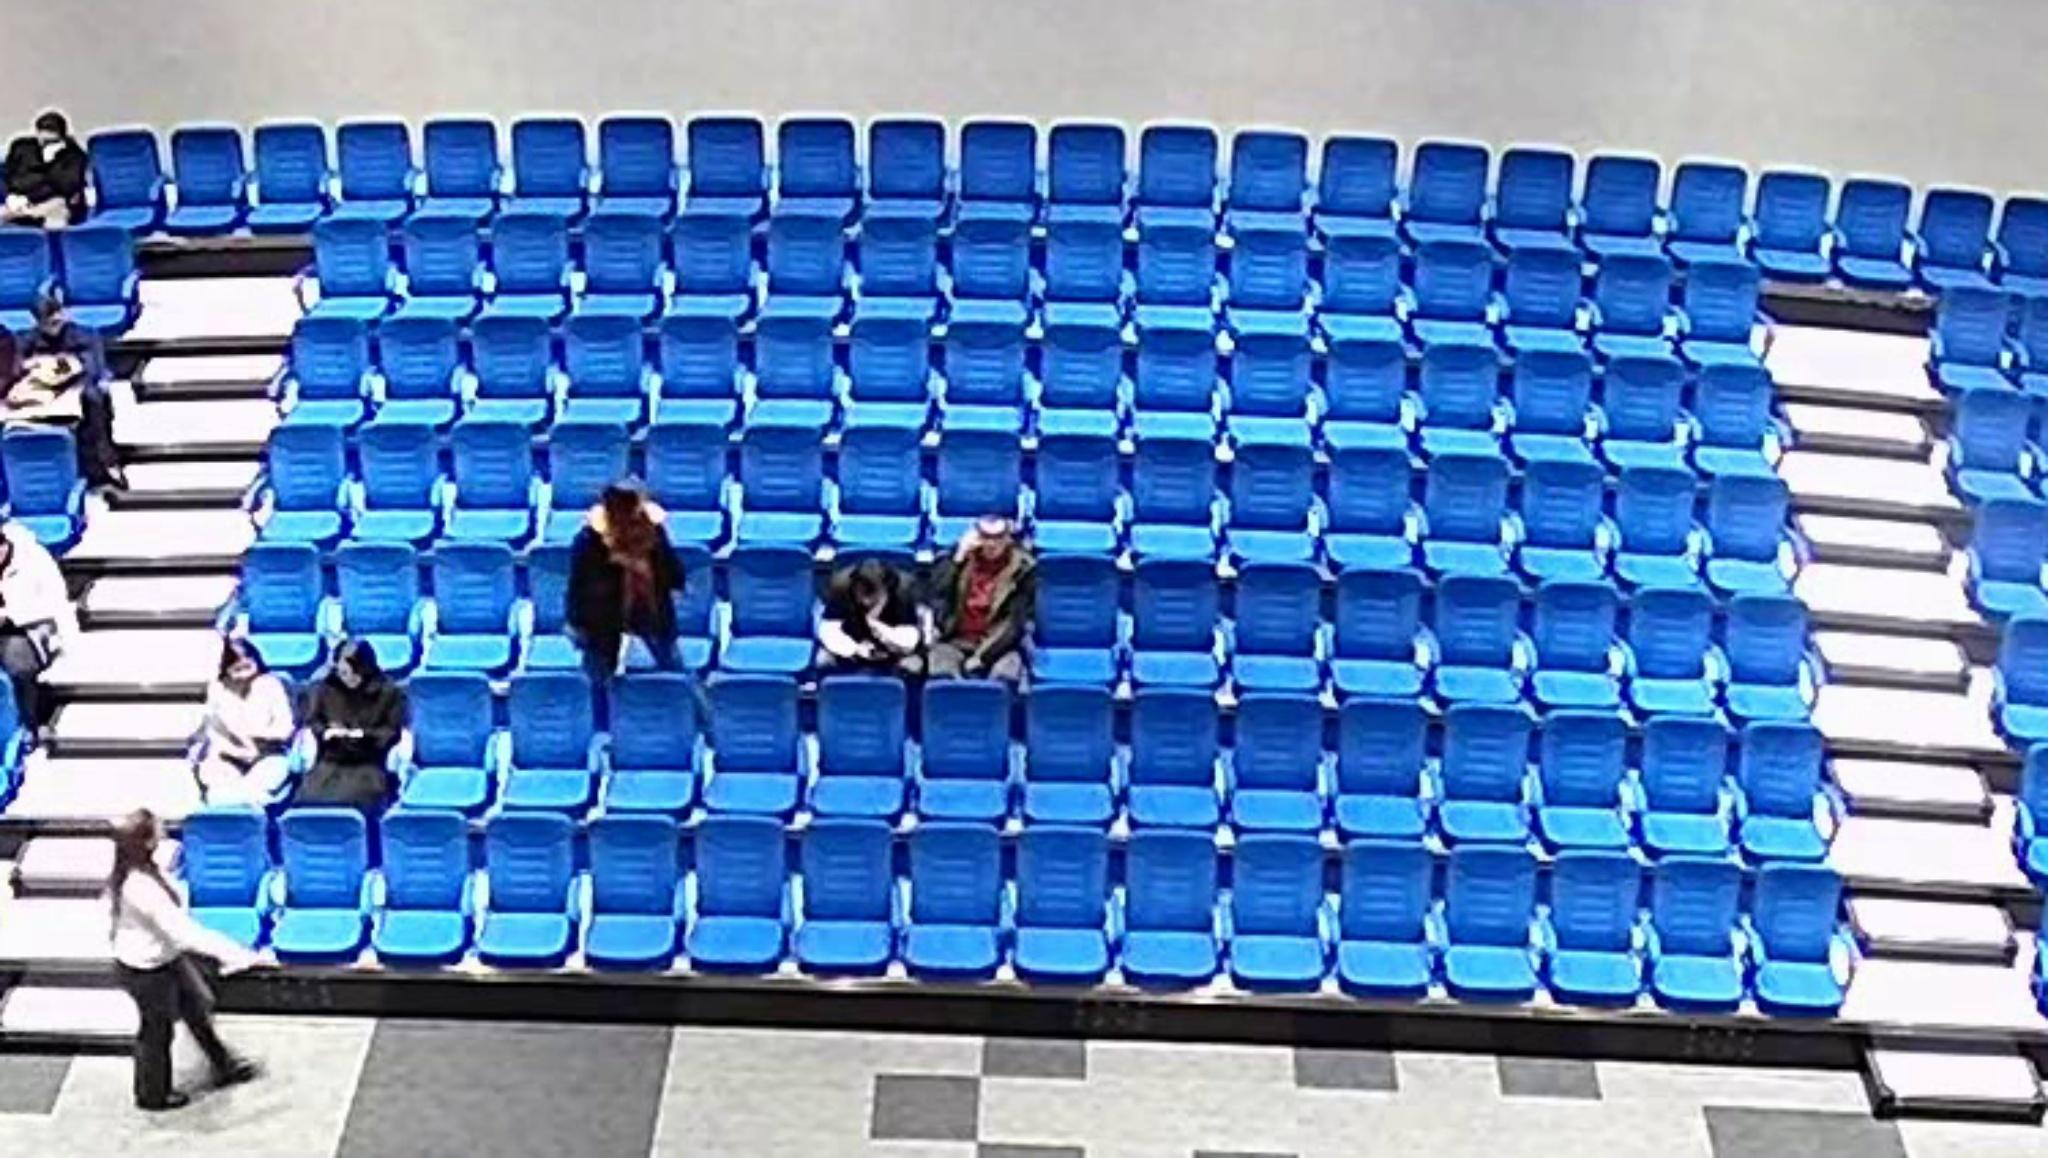empty: (1004, 826, 1120, 986), (575, 812, 686, 975), (684, 815, 793, 978), (789, 815, 897, 979), (1222, 832, 1331, 996), (1114, 829, 1225, 989), (1328, 837, 1438, 999), (899, 822, 1006, 984), (1436, 846, 1544, 1003), (1643, 854, 1750, 1013), (1540, 848, 1646, 1007), (473, 809, 577, 968), (369, 805, 471, 965), (267, 806, 371, 964), (803, 675, 913, 823), (1326, 696, 1435, 841), (698, 674, 805, 819), (165, 809, 267, 958), (911, 678, 1017, 823), (1747, 865, 1851, 1012), (1121, 687, 1225, 832), (1730, 720, 1836, 863), (1016, 682, 1120, 826), (1632, 713, 1736, 857), (1225, 692, 1331, 833), (1433, 704, 1536, 846), (494, 673, 601, 809), (1533, 708, 1632, 854), (595, 675, 699, 813), (1224, 563, 1329, 694), (1122, 557, 1225, 691), (397, 673, 495, 809), (1523, 581, 1625, 712), (1426, 574, 1526, 706), (1328, 570, 1428, 701), (717, 542, 816, 674), (1622, 587, 1720, 718), (827, 424, 928, 550), (418, 540, 518, 668), (1024, 554, 1124, 682), (924, 428, 1030, 547), (1024, 433, 1127, 556), (619, 545, 716, 674), (328, 542, 421, 675), (1318, 447, 1418, 571), (1512, 460, 1612, 584), (1418, 452, 1513, 578), (512, 542, 605, 671), (1224, 442, 1321, 566), (1608, 466, 1703, 591), (1315, 338, 1416, 456), (1127, 438, 1222, 561), (729, 425, 828, 543), (232, 542, 326, 666), (1699, 474, 1793, 598), (740, 318, 840, 435), (1685, 363, 1785, 478), (636, 424, 730, 545), (1719, 594, 1809, 720), (442, 421, 535, 543), (1592, 356, 1689, 473), (1504, 350, 1599, 469), (536, 419, 629, 540), (933, 322, 1031, 436), (1221, 332, 1319, 446), (1948, 386, 2042, 504), (347, 422, 442, 540), (1411, 343, 1505, 460), (647, 315, 744, 428), (1031, 324, 1127, 438), (366, 318, 463, 428), (256, 425, 346, 543), (1220, 122, 1315, 234), (553, 315, 647, 428), (843, 318, 934, 433), (755, 217, 854, 324), (1127, 329, 1220, 442), (1129, 117, 1221, 231), (1034, 222, 1129, 328), (461, 317, 554, 425), (277, 317, 367, 428), (952, 114, 1041, 227), (847, 218, 942, 322), (1677, 260, 1772, 364), (1315, 235, 1408, 342), (1498, 246, 1591, 353), (859, 114, 951, 222), (1131, 225, 1222, 333), (1042, 118, 1134, 225), (663, 215, 754, 322), (1407, 241, 1498, 348), (571, 214, 663, 319), (1966, 498, 2048, 616), (1578, 152, 1668, 259), (1588, 252, 1678, 359), (1747, 169, 1836, 277), (772, 117, 859, 227), (942, 221, 1030, 331), (1831, 174, 1917, 286), (478, 215, 570, 319), (587, 114, 677, 219), (1402, 139, 1492, 245), (1224, 231, 1314, 336), (1317, 131, 1404, 239), (301, 215, 391, 319), (681, 114, 768, 221), (1492, 145, 1581, 249), (1913, 183, 1996, 294), (1928, 287, 2016, 393), (499, 115, 588, 218), (156, 125, 242, 231), (412, 117, 501, 218), (394, 217, 477, 321), (245, 122, 325, 227), (1670, 159, 1750, 263), (326, 121, 409, 221), (3, 433, 75, 546), (55, 227, 131, 325), (83, 129, 158, 228), (1995, 618, 2048, 742), (1995, 196, 2048, 294), (0, 231, 49, 331)
